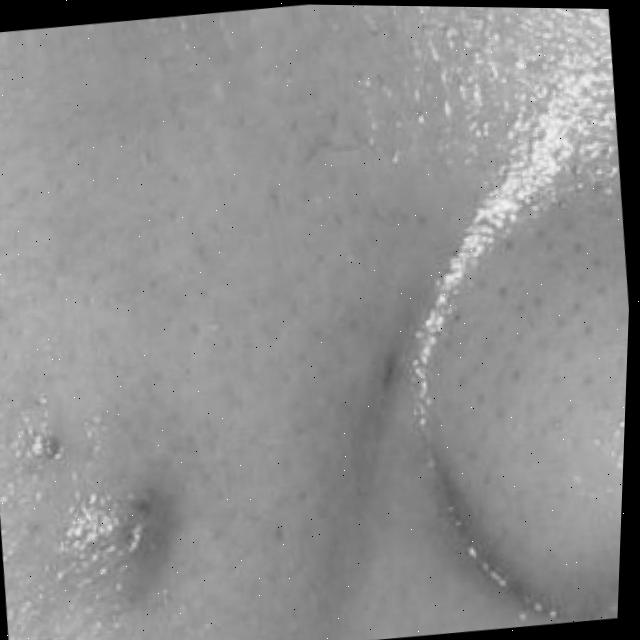Acne: (90, 487, 159, 556)
